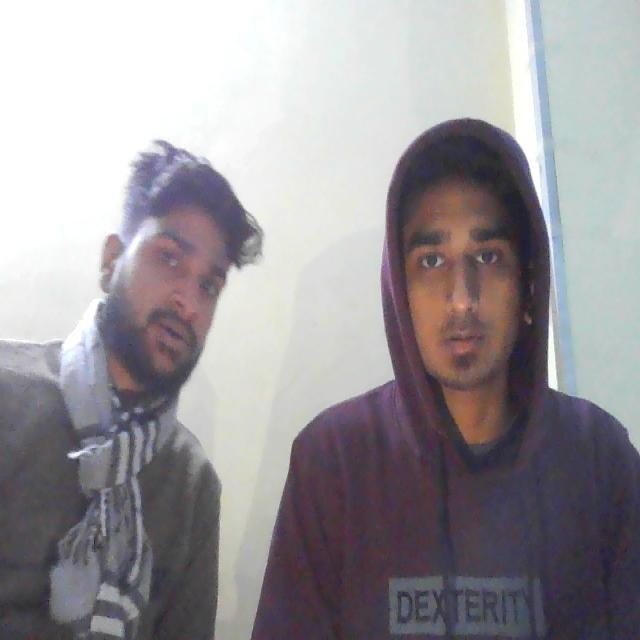real: (379, 102, 550, 426), (106, 148, 234, 389)
